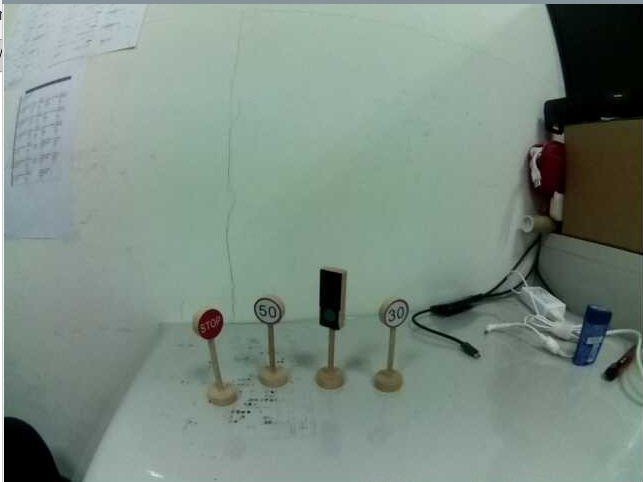Green: (313, 263, 351, 332)
Speed30: (380, 293, 411, 329)
Speed50: (252, 295, 286, 327)
Stop: (191, 303, 226, 345)
